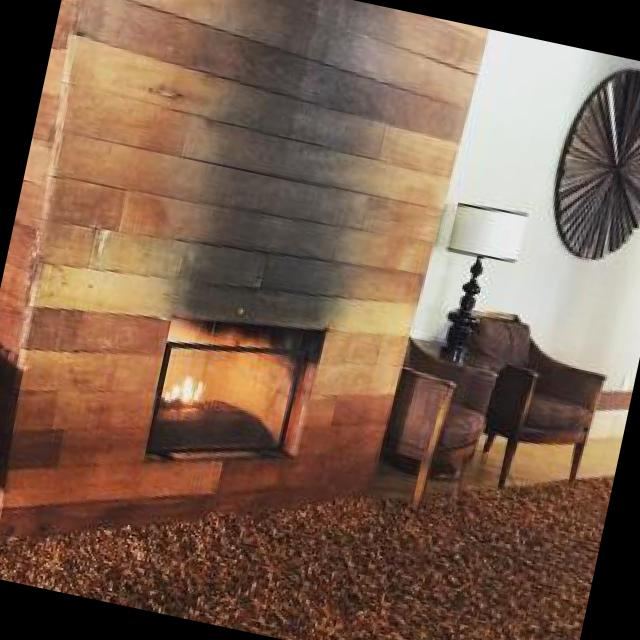Fire: (161, 356, 212, 414)
